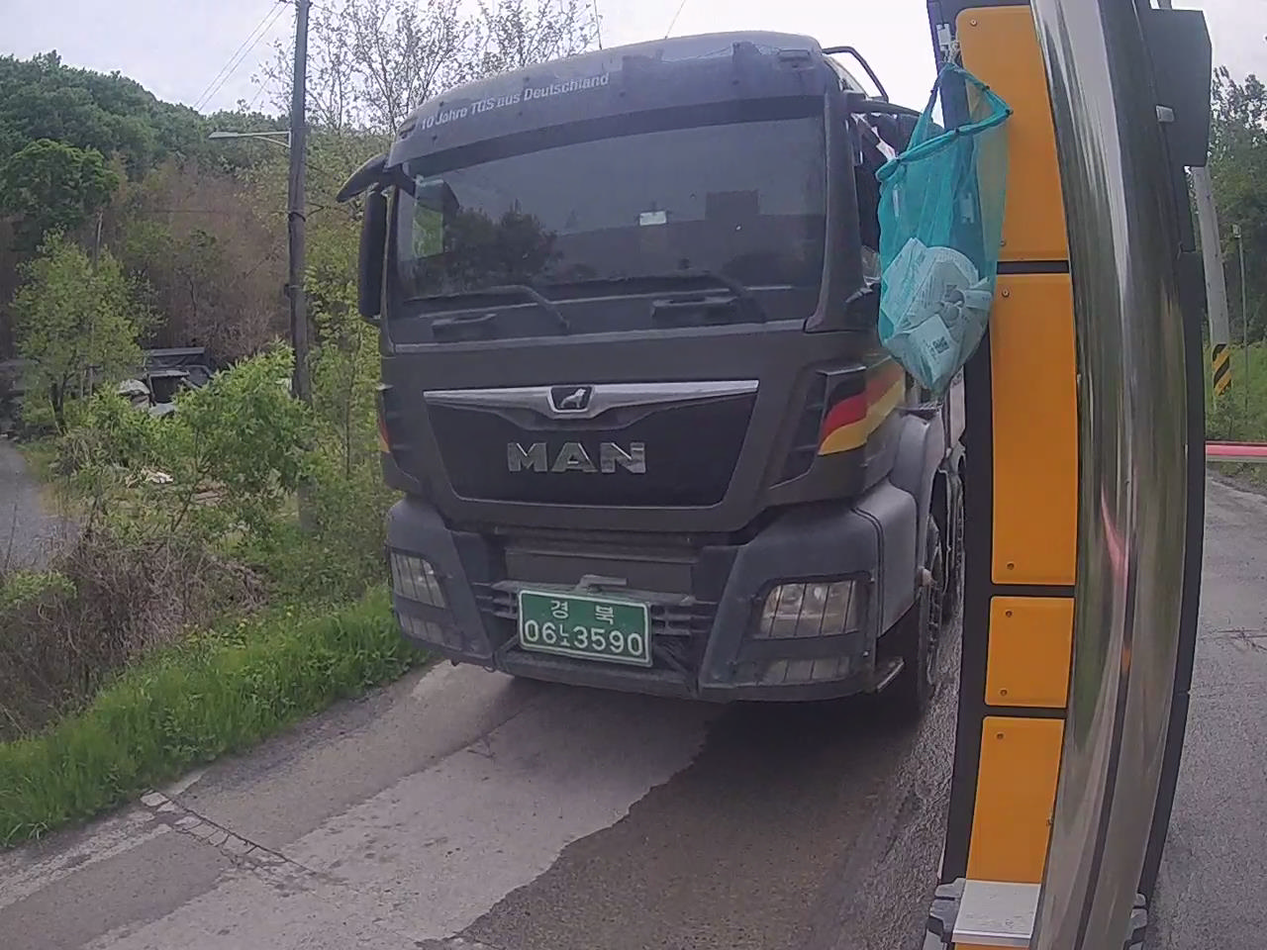license_plate: (520, 592, 651, 666)
truck: (341, 33, 963, 711)
